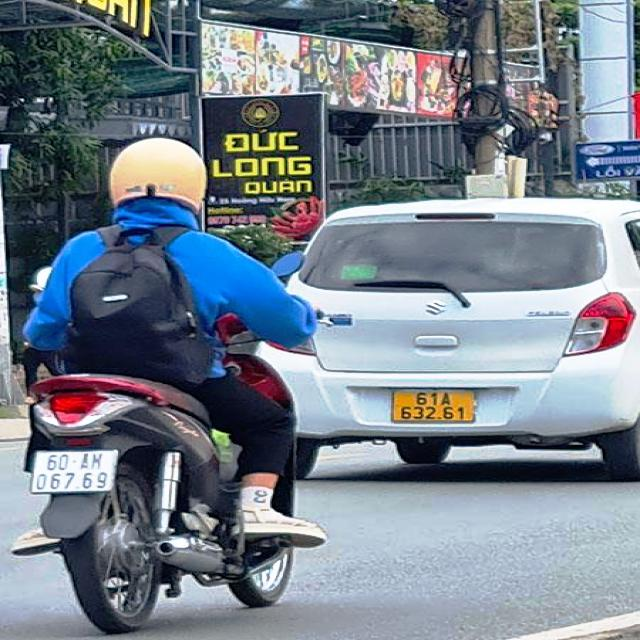license_plate: (30, 450, 119, 492), (393, 389, 479, 423)
